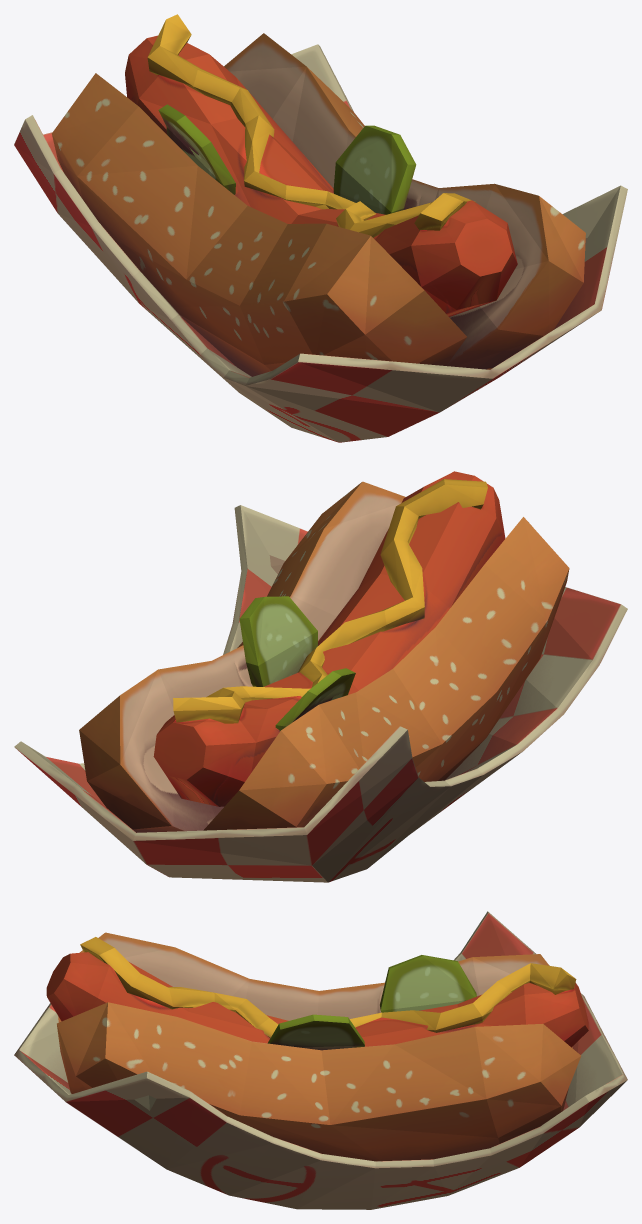
Rendered from FOD0110027.fbx.
The picture shows the model from 3 angles, top to bottom: view 1: azimuth 30°, elevation 25°; view 2: azimuth 150°, elevation 25°; view 3: azimuth 270°, elevation 25°; orthographic projection. The views are drawn at different scales.
Parts seen in each view (by area): view 1: smFOD0110027; view 2: smFOD0110027; view 3: smFOD0110027.
Boxes of the visible parts, box(x1,y1,x2,y2) form: smFOD0110027: box(14, 14, 627, 442); smFOD0110027: box(14, 471, 627, 882); smFOD0110027: box(14, 911, 627, 1209).
Bounding box in the file's own units: 21.78 × 15.52 × 36.07.
Materials: 1 (1 with a texture image).
